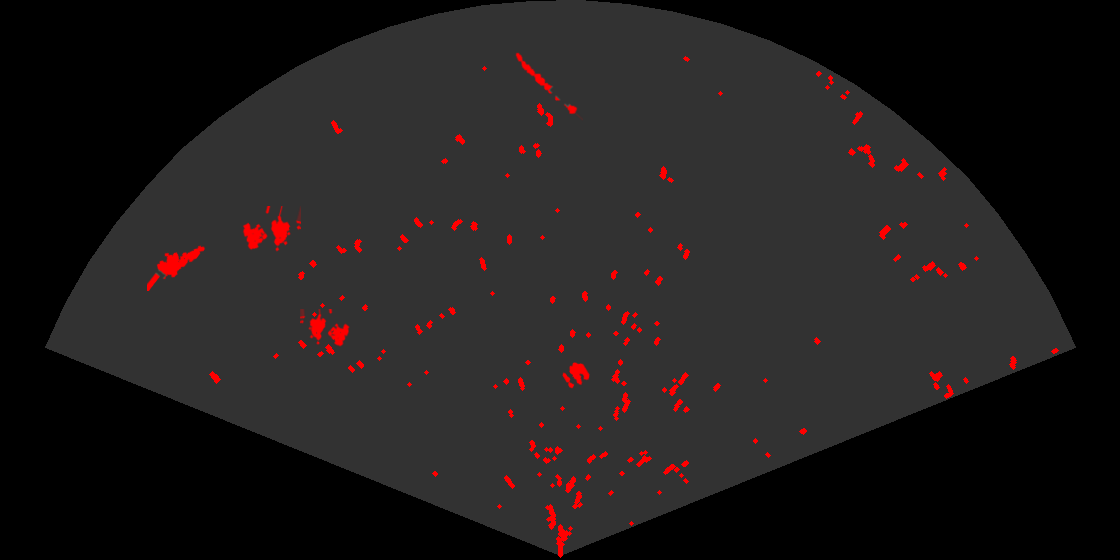ball: (561, 361, 591, 390)
cage: (241, 206, 301, 253), (300, 309, 351, 348)
chain: (514, 51, 583, 122)
frogman: (147, 244, 207, 291)
